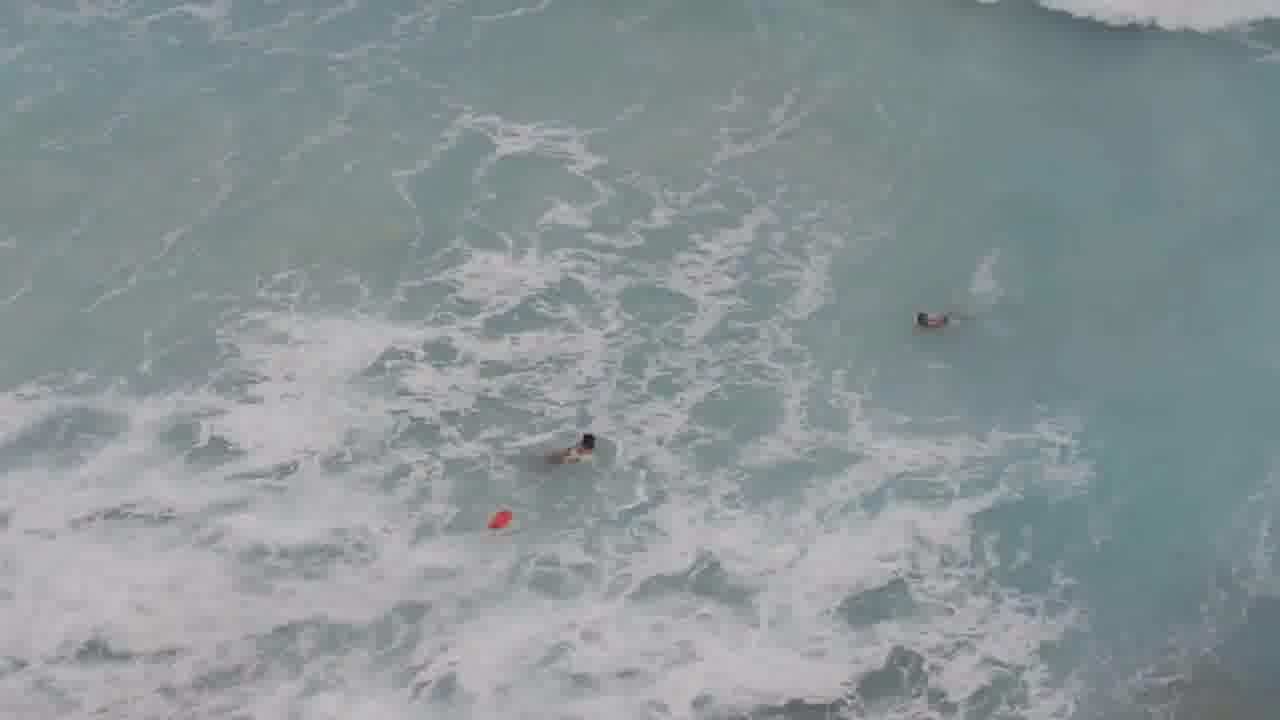swimmer: (906, 300, 960, 338), (556, 429, 613, 460)
